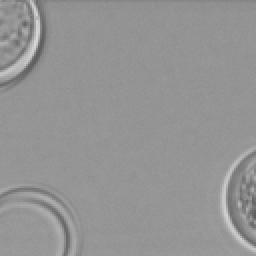picoshell: (0, 180, 82, 254), (220, 148, 254, 252)
